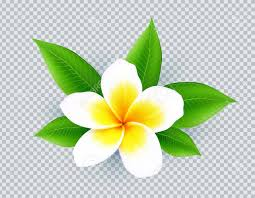frangipani: (61, 61, 187, 179)
